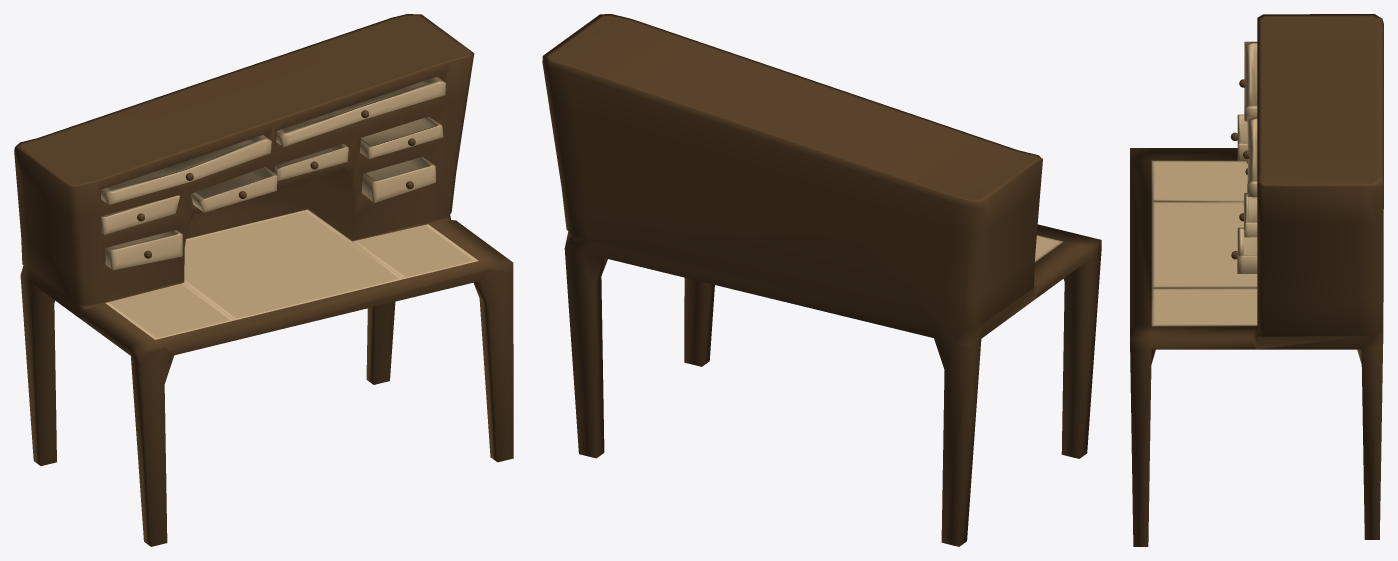
File: bureau.fbx
3 renders of one model, left to right at view 1: azimuth 30°, elevation 25°; view 2: azimuth 150°, elevation 25°; view 3: azimuth 270°, elevation 25°, orthographic. The views are drawn at different scales.
Visible parts, largest first — view 1: Cube.001; view 2: Cube.001; view 3: Cube.001.
Part boxes in pixels (box(x1,y1,x2,y2)): Cube.001: box(14, 14, 513, 546); Cube.001: box(542, 14, 1101, 546); Cube.001: box(1130, 14, 1383, 546).
Size of the model in its own units: 2069 by 1725 by 1066.
